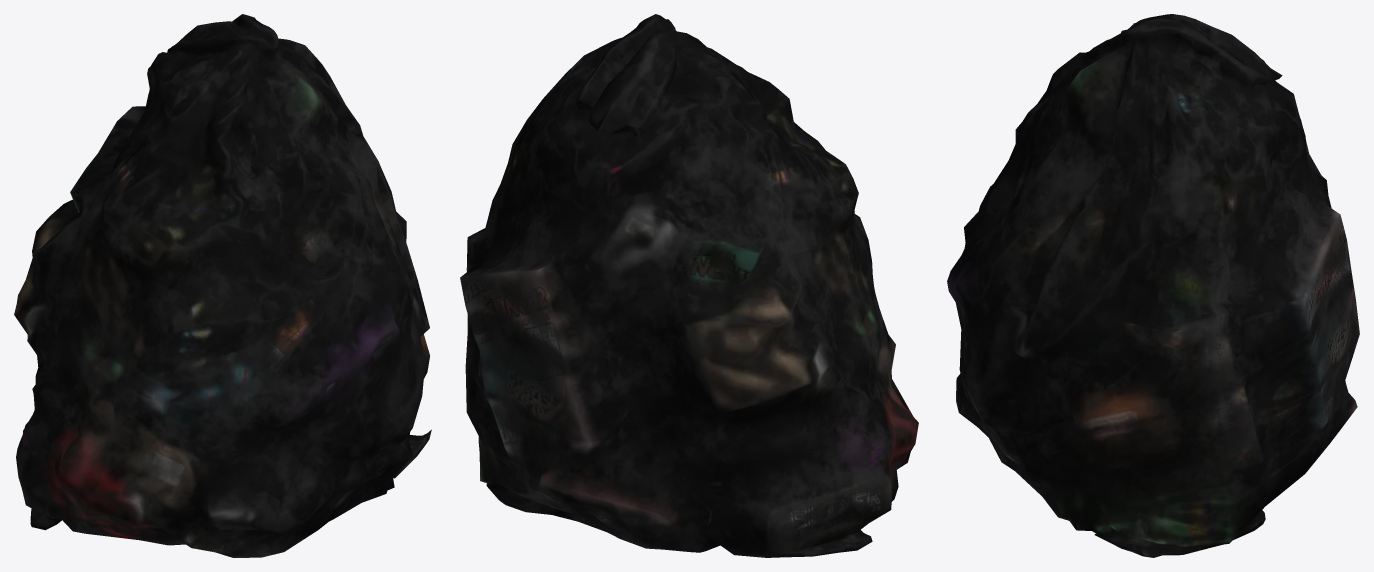
The model's file is bolsa_basura.glb.
3 renders of one model, left to right at view 1: azimuth 30°, elevation 25°; view 2: azimuth 150°, elevation 25°; view 3: azimuth 270°, elevation 25°, orthographic. The views are drawn at different scales.
Visible parts, largest first — view 1: bolsa_basura; view 2: bolsa_basura; view 3: bolsa_basura.
Boxes of the visible parts, x1,y1,x2,y2 form: bolsa_basura: [14, 14, 431, 557]; bolsa_basura: [460, 14, 918, 557]; bolsa_basura: [947, 14, 1359, 557].
Size of the model in its own units: 0.5281 by 0.575 by 0.4629.
Materials: 1 (1 with a texture image).
